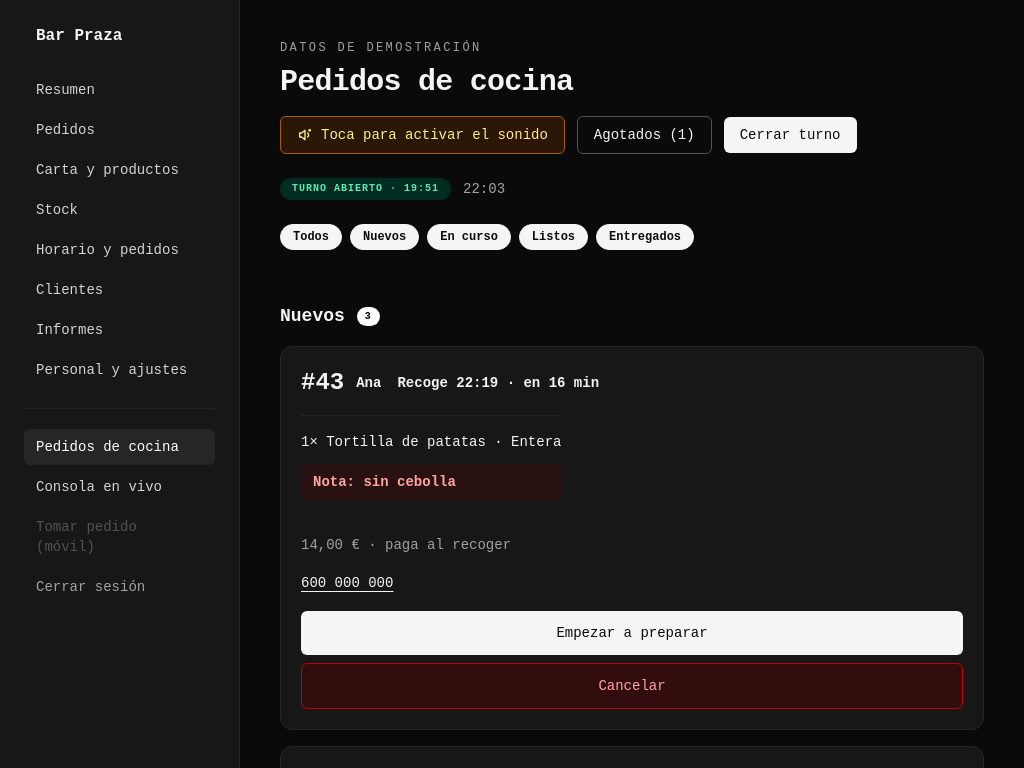
kitchen sound when the browser holds it back › turns the sound on with a press on the waiting button, and does not switch it off again
Expected: the heading "Pedidos de cocina" is shown, [280, 64, 573, 100]
Click the button "Toca para activar el sonido" at [422, 135], box [280, 116, 565, 154]
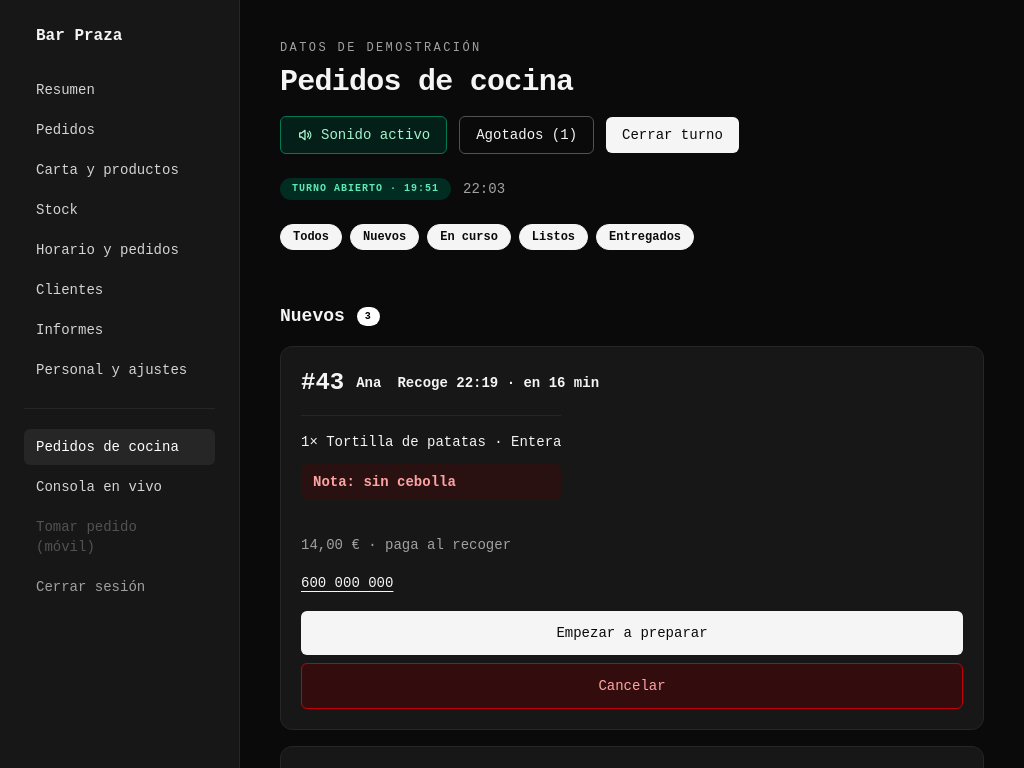
Now the button "Sonido activo" is shown, box [280, 116, 447, 154]
